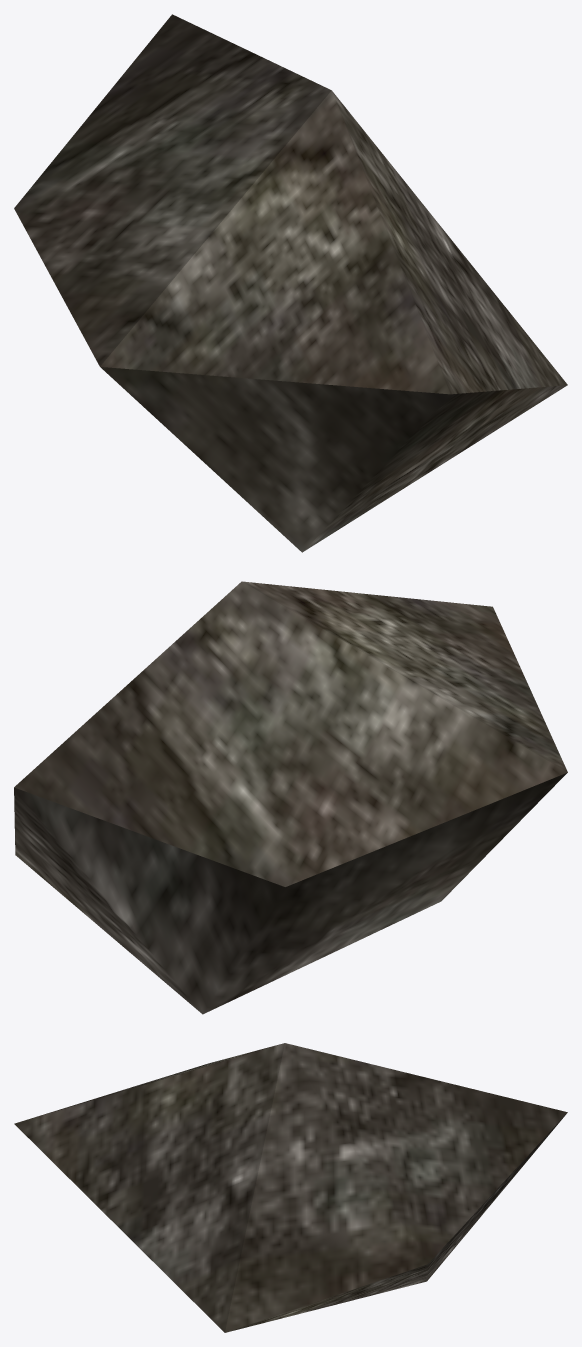
Rendered from Flysmallstone1.glb.
3 views of the same model, one above another, from view 1: azimuth 30°, elevation 25°; view 2: azimuth 150°, elevation 25°; view 3: azimuth 270°, elevation 25° (orthographic). The views are drawn at different scales.
Visible parts, largest first — view 1: model_Flysmallstone1; view 2: model_Flysmallstone1; view 3: model_Flysmallstone1.
Part boxes in pixels (left/top/right/bottom): model_Flysmallstone1: left=14, top=14, right=567, bottom=552; model_Flysmallstone1: left=14, top=581, right=567, bottom=1014; model_Flysmallstone1: left=14, top=1043, right=567, bottom=1332.
Bounding box in the file's own units: 0.5546 × 0.4072 × 0.7769.
1 material, 1 textured.
